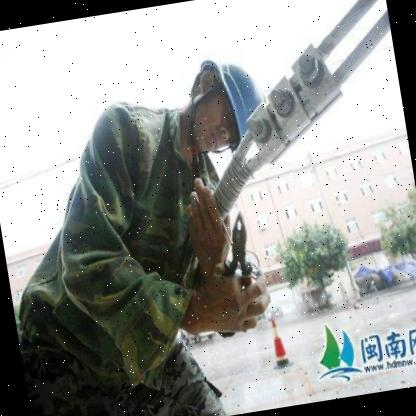capacete: (174, 48, 271, 160)
